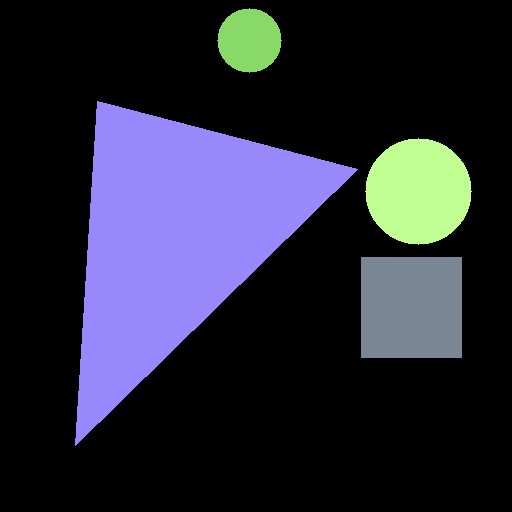circle: (365, 138, 471, 244), (217, 8, 281, 72)
square: (361, 257, 461, 357)
triangle: (75, 101, 357, 445)
